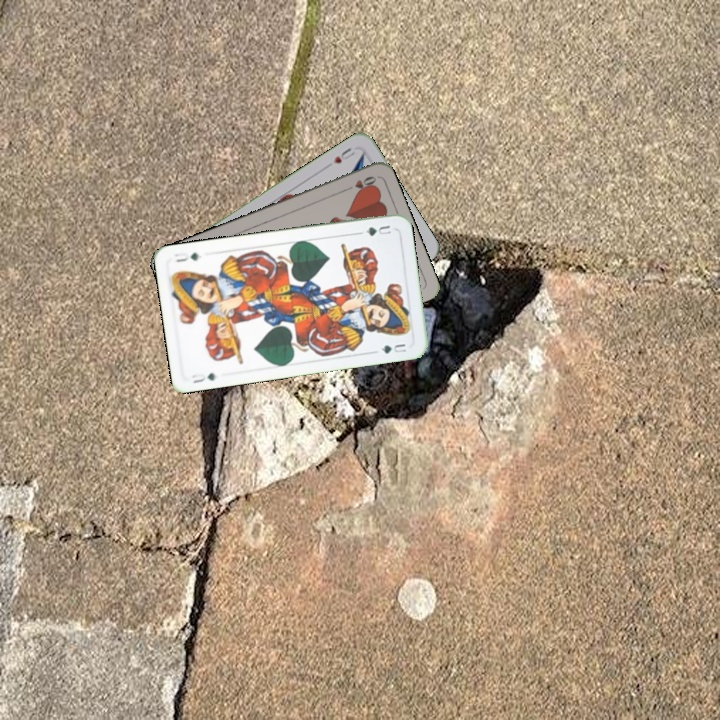GU: (362, 221, 394, 239), (188, 369, 218, 386)
HO: (340, 172, 379, 194)
HU: (329, 144, 359, 166)
